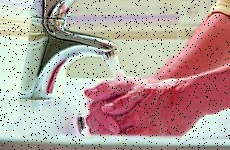washing hand: (53, 11, 211, 137)
